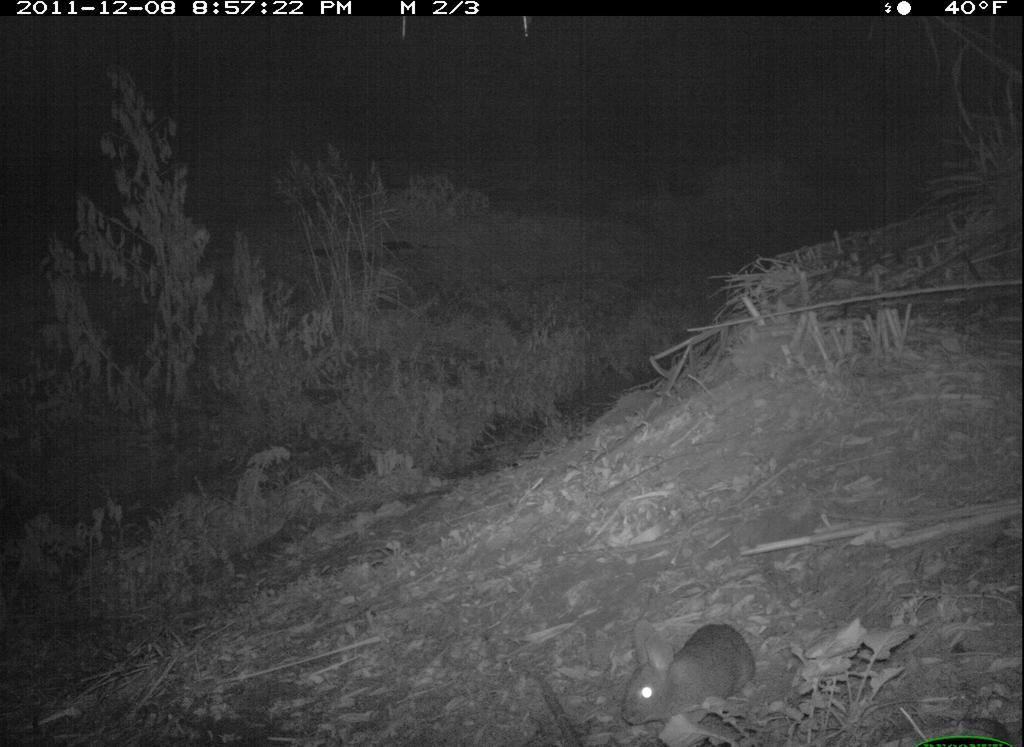rabbit: (610, 615, 762, 738)
